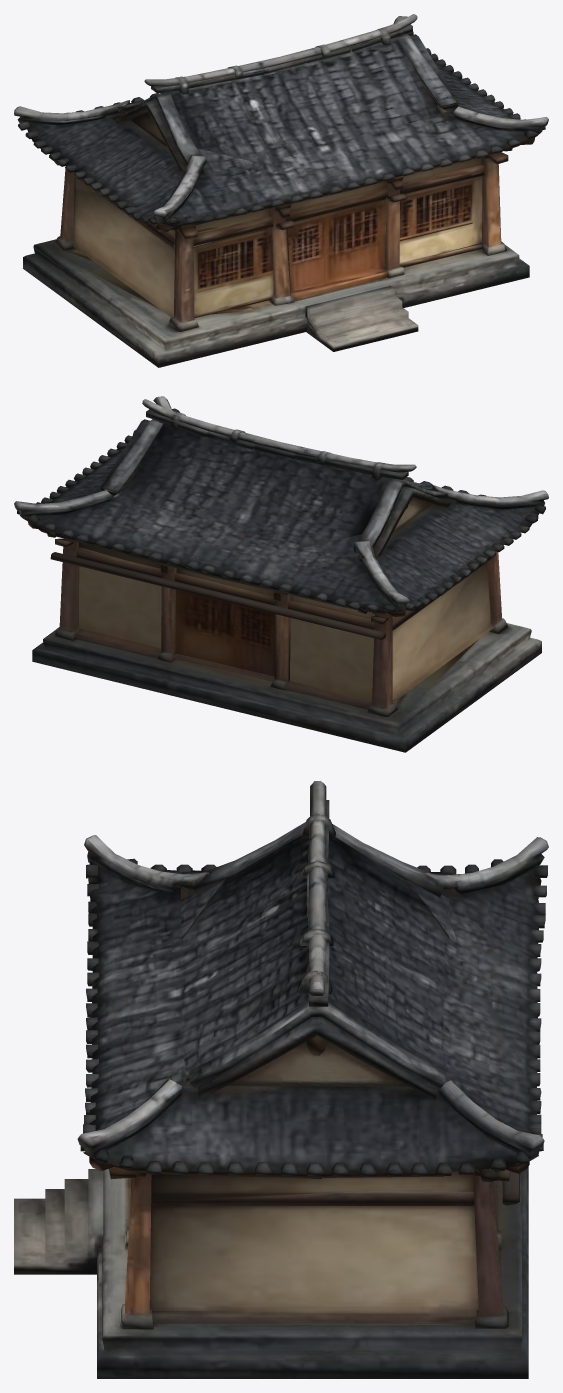
Rendered from creek-station-hall.glb.
The picture shows the model from 3 angles, top to bottom: view 1: azimuth 30°, elevation 25°; view 2: azimuth 150°, elevation 25°; view 3: azimuth 270°, elevation 25°; orthographic projection. The views are drawn at different scales.
Parts seen in each view (by area): view 1: Creek Post Hall; view 2: Creek Post Hall; view 3: Creek Post Hall.
Boxes of the visible parts, bbox=[...] form: Creek Post Hall: bbox=[14, 14, 548, 367]; Creek Post Hall: bbox=[14, 396, 548, 752]; Creek Post Hall: bbox=[14, 781, 548, 1378].
Size of the model in its own units: 14.39 by 7.83 by 10.63.
Materials: 1 (1 with a texture image).
